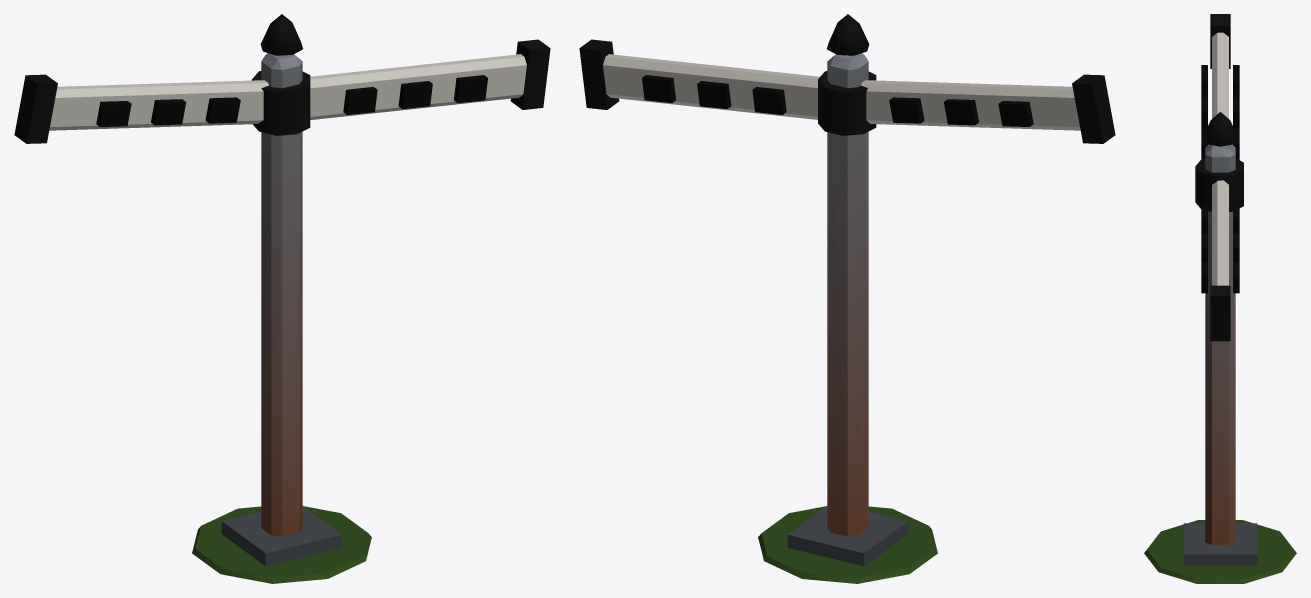
The model's file is gradient-post.glb.
3 views of the same model, side by side, from view 1: azimuth 30°, elevation 25°; view 2: azimuth 150°, elevation 25°; view 3: azimuth 270°, elevation 25° (orthographic). The views are drawn at different scales.
Parts seen in each view (by area): view 1: gradient_post; view 2: gradient_post; view 3: gradient_post.
Boxes of the visible parts, x1,y1,x2,y2 form: gradient_post: (14,14,550,583); gradient_post: (579,14,1115,583); gradient_post: (1144,14,1296,583).
Bounding box in the file's own units: 1.5 × 1.46 × 0.4576.
